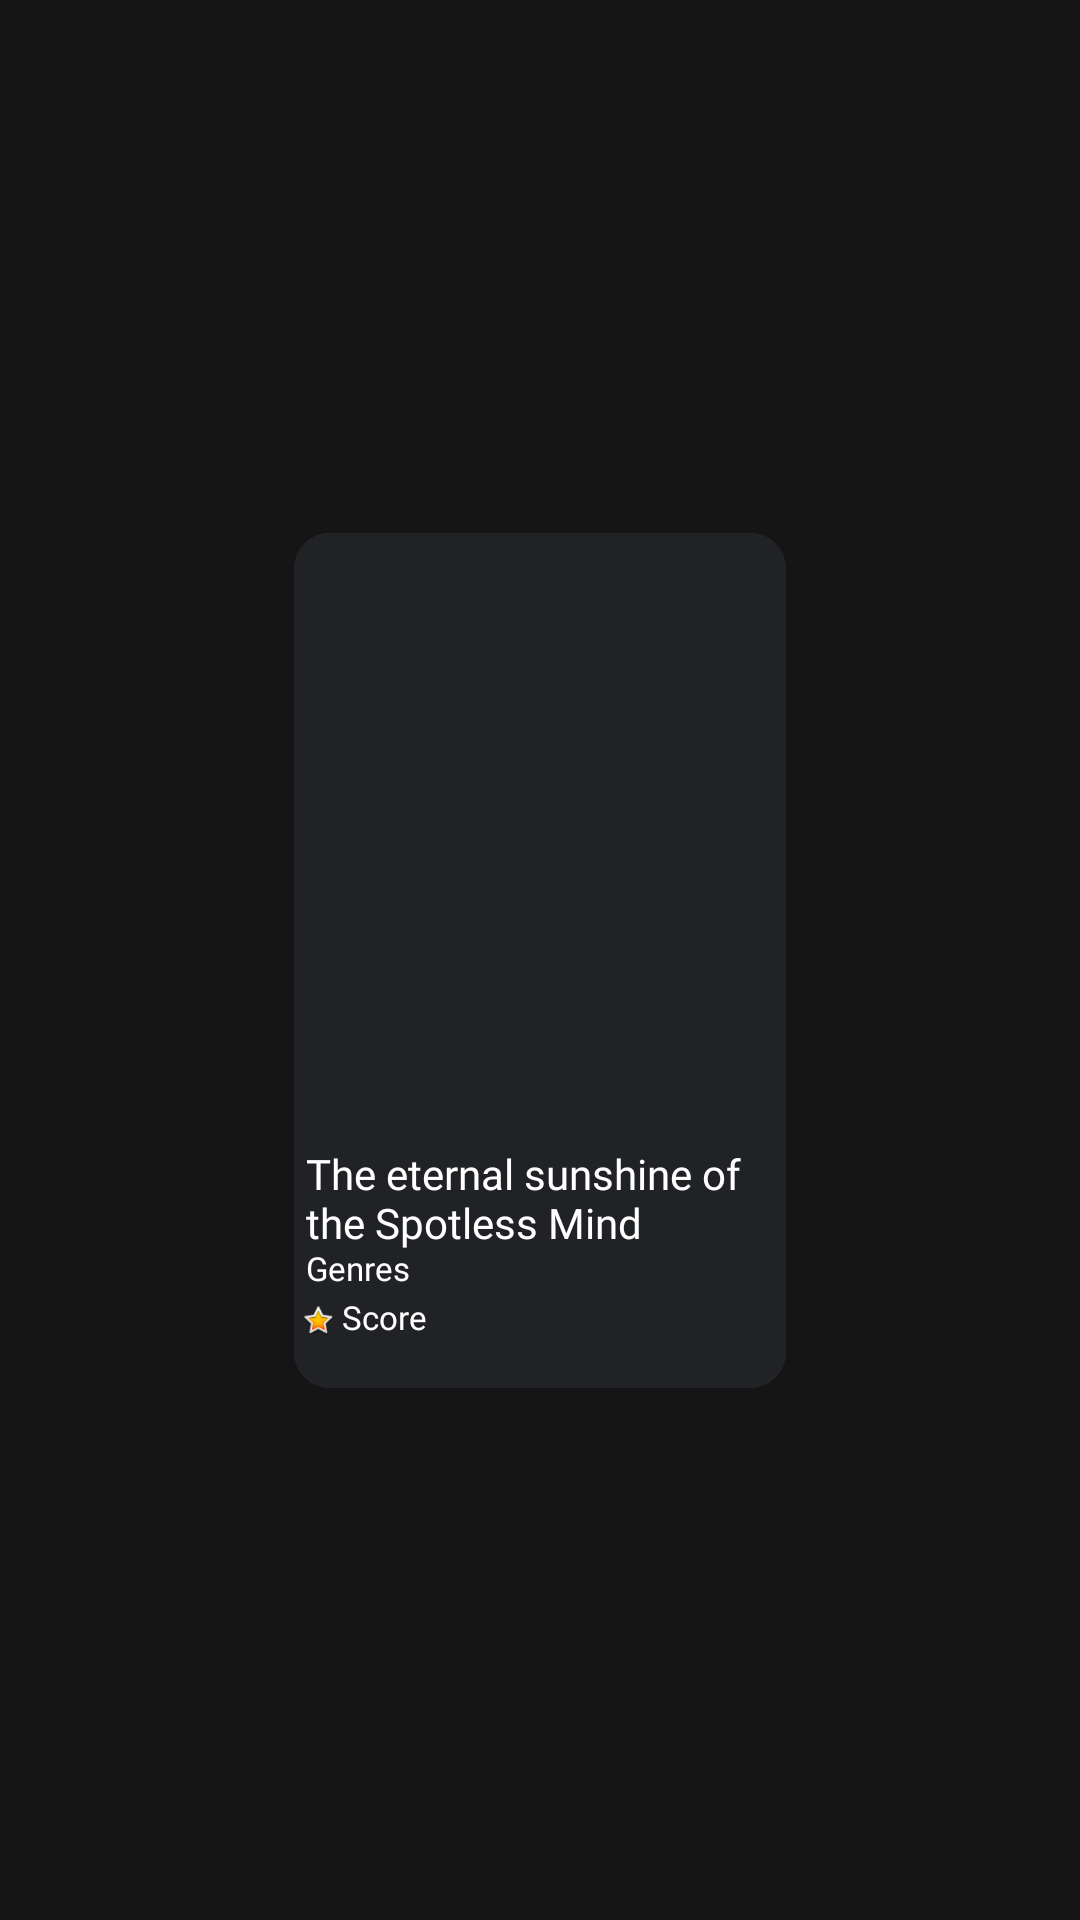

Point at icon controls on the screen. Image size 1080*1920, points as point (x, y).
star on: point (318, 1320)
